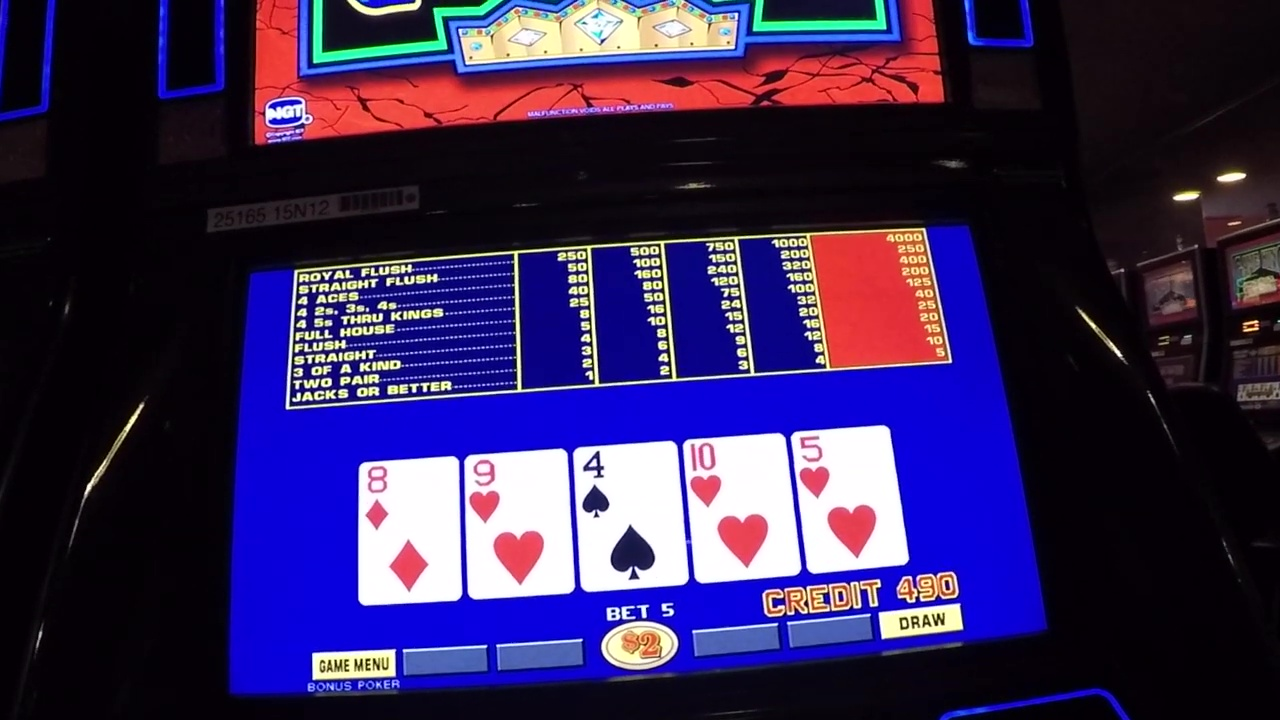D8: (359, 463, 458, 536)
H3: (797, 431, 889, 499)
H9: (468, 453, 566, 526)
HT: (689, 440, 784, 507)
S4: (579, 450, 678, 520)
